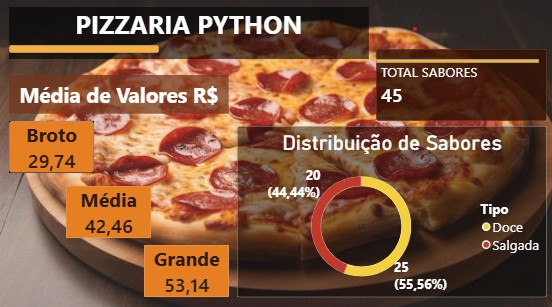

The page's visual inventory and layout, read from the dashboard file:
{"tool":"powerbi","page":{"name":"Página 1","canvas":[1920,1080],"ordinal":0},"visuals":[{"type":"cardVisual","fields":{"Data":["Count(pizzas.Sabor)"]},"box":[1300.8,173,591.6,249.1],"z":0},{"type":"cardVisual","fields":{"Data":["pizzas.Preço Médio"]},"box":[31.1,422.1,294.1,179.9],"z":1000},{"type":"cardVisual","fields":{"Data":["pizzas.Preço Médio Média"]},"box":[228.3,646.9,294.1,179.9],"z":2000},{"type":"cardVisual","fields":{"Data":["pizzas.Preço Médio Grande"]},"box":[498.2,851,294.1,179.9],"z":3000},{"type":"donutChart","title":"Distribuição de Sabores","fields":{"Category":["pizzas.Tipo"],"Y":["pizzas.Total de Sabores"]},"box":[819.9,439.4,1072.4,591.6],"z":4000},{"type":"textbox","box":[31.1,27.7,1245.4,179.9],"z":5000},{"type":"textbox","box":[792.2,0,311.4,159.1],"z":6000},{"type":"textbox","box":[31.4,263.8,760,134],"z":7000},{"type":"shape","box":[1300.8,207.6,563.9,13.8],"z":7001},{"type":"shape","box":[31.1,159.1,518.9,27.7],"z":7002}]}

Visuals, with their boxes in screenshot pixels (x1, y1, x2, y2), scaled from the page's 1920x1080 canvas onto the 552x307 screenshot:
cardVisual - Count(pizzas.Sabor): bbox(374, 49, 544, 120)
cardVisual - pizzas.Preço Médio: bbox(9, 120, 93, 171)
cardVisual - pizzas.Preço Médio Média: bbox(66, 184, 150, 235)
cardVisual - pizzas.Preço Médio Grande: bbox(143, 242, 228, 293)
"Distribuição de Sabores" donutChart: bbox(236, 125, 544, 293)
textbox: bbox(9, 8, 367, 59)
textbox: bbox(228, 0, 317, 45)
textbox: bbox(9, 75, 228, 113)
shape: bbox(374, 59, 536, 63)
shape: bbox(9, 45, 158, 53)
